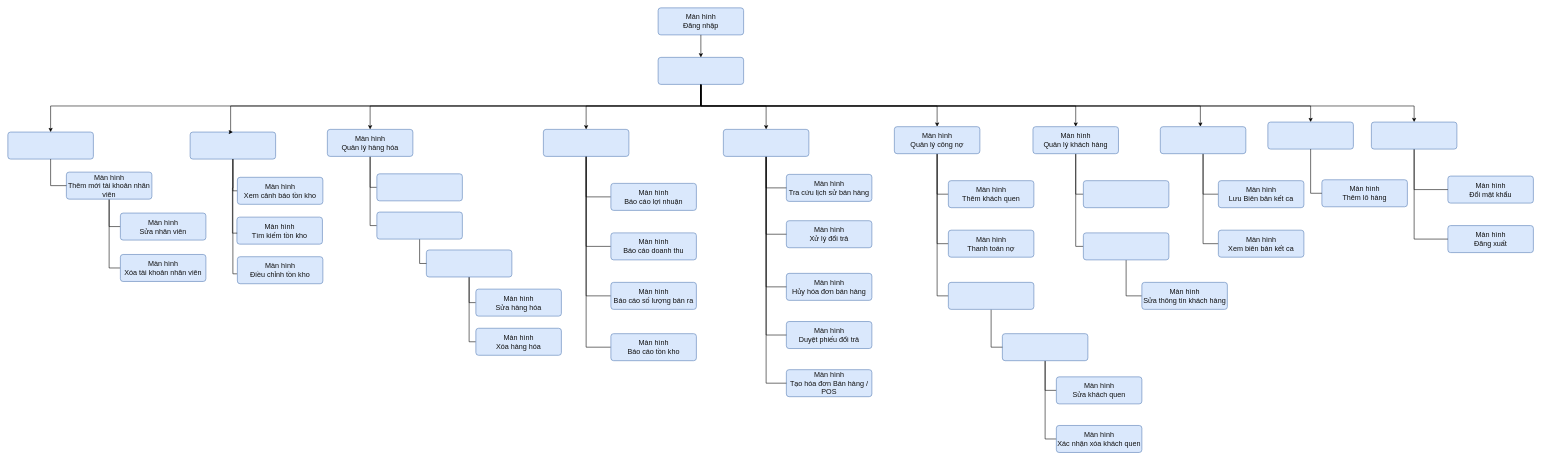
Image size: 1542x461. Some labels were removed from this diagram. Each missing label, with the centre of its shape:
"Màn hình Avatar" goes at pixel 1414 135.
"Màn hình Chi tiết hàng hóa" goes at pixel 469 263.
"Màn hình Chi tiết khách quen" goes at pixel 1045 347.
"Màn hình Kết ca" goes at pixel 1203 140.
"Màn hình Quản lý bán hàng" goes at pixel 766 143.
"Màn hình Quản lý lô hàng" goes at pixel 1310 135.
"Màn hình Quản lý nhân viên" goes at pixel 50 145.
"Màn hình Quản lý tồn kho" goes at pixel 233 145.
"Màn hình Thêm hàng hóa" goes at pixel 419 187.
"Màn hình Thêm khách hàng" goes at pixel 1126 194.
"Màn hình Trang chủ Chủ quán" goes at pixel 701 71.
"Màn hình Tìm kiếm hàng hóa" goes at pixel 419 225.
"Màn hình Tìm kiếm khách hàng" goes at pixel 1126 246.
"Màn hình Tìm kiếm khách quen" goes at pixel 991 296.
"Màn hình Xem báo cáo và thống kê" goes at pixel 586 143.
